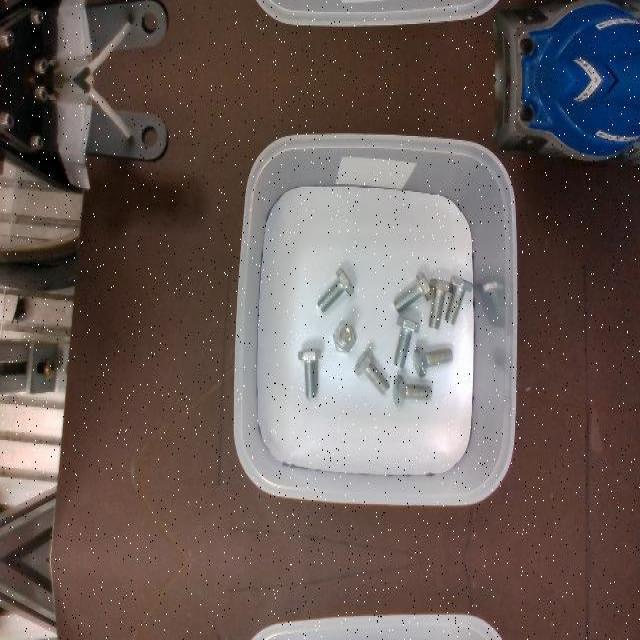screw: (353, 347, 390, 395), (317, 267, 353, 313), (393, 270, 431, 312), (444, 273, 473, 323), (393, 315, 419, 369), (428, 277, 454, 329), (393, 374, 432, 408), (298, 346, 322, 398), (413, 346, 452, 376), (333, 322, 355, 352)
